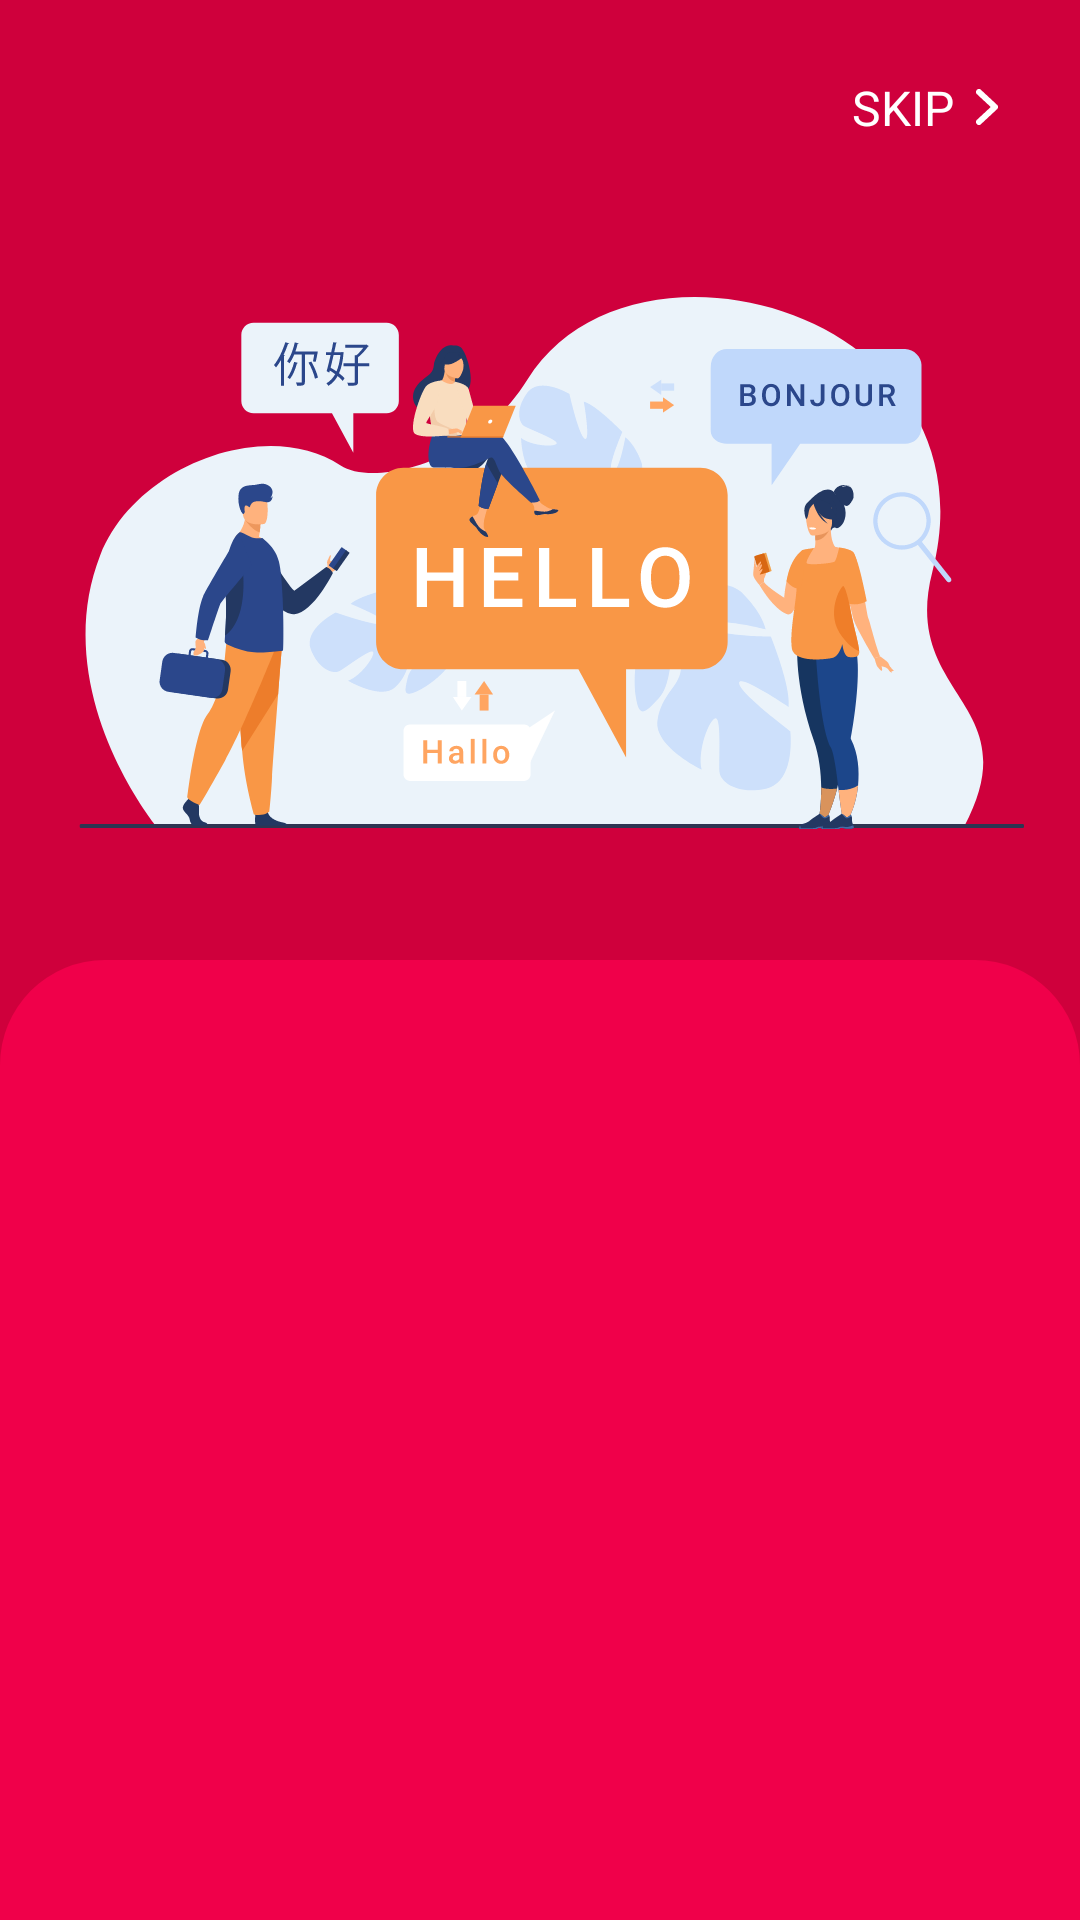

Icons on this 1080w x 1920h Android screen, each with its box as bbox(x1, y1, x2, y2):
right arrow: bbox(976, 89, 998, 125)
